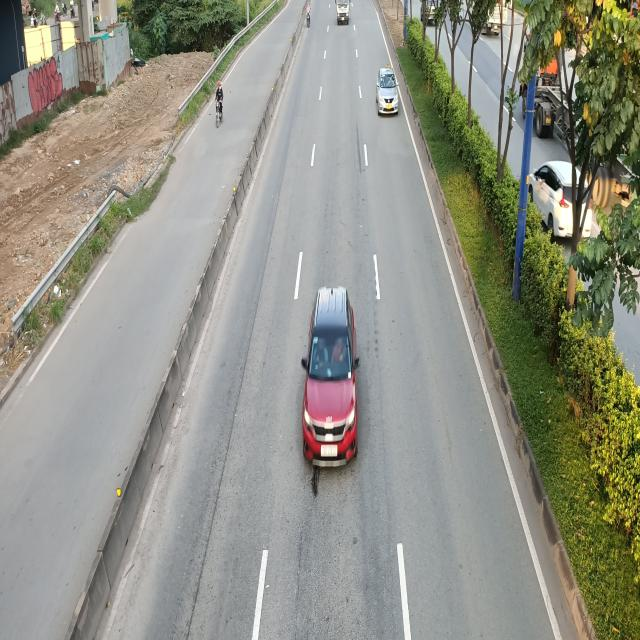car: (303, 287, 362, 465), (375, 69, 399, 117)
